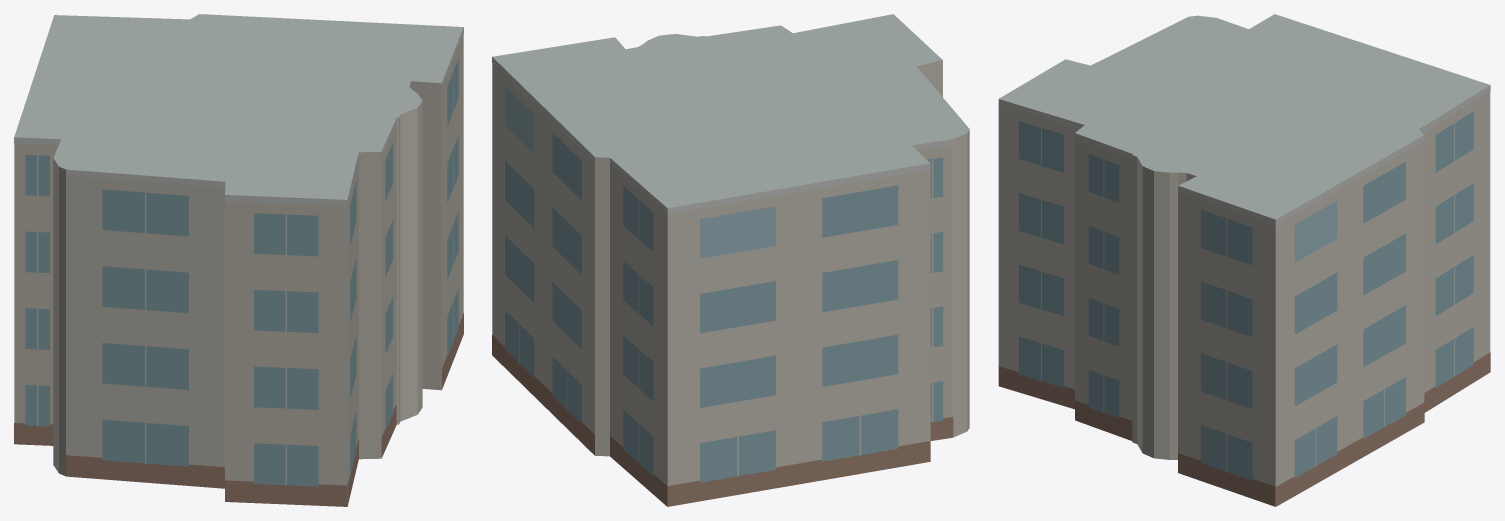
The model's file is survey-upis-32767138.glb.
3 renders of one model, left to right at view 1: azimuth 30°, elevation 25°; view 2: azimuth 150°, elevation 25°; view 3: azimuth 270°, elevation 25°, orthographic. The views are drawn at different scales.
Visible parts, largest first — view 1: survey-upis-32767138.tmp; view 2: survey-upis-32767138.tmp; view 3: survey-upis-32767138.tmp.
Part boxes in pixels (x1,y1,x2,y2): survey-upis-32767138.tmp: [14, 14, 463, 506]; survey-upis-32767138.tmp: [492, 14, 969, 506]; survey-upis-32767138.tmp: [998, 14, 1490, 506].
Bounding box in the file's own units: 17.97 × 11.7 × 18.16.
